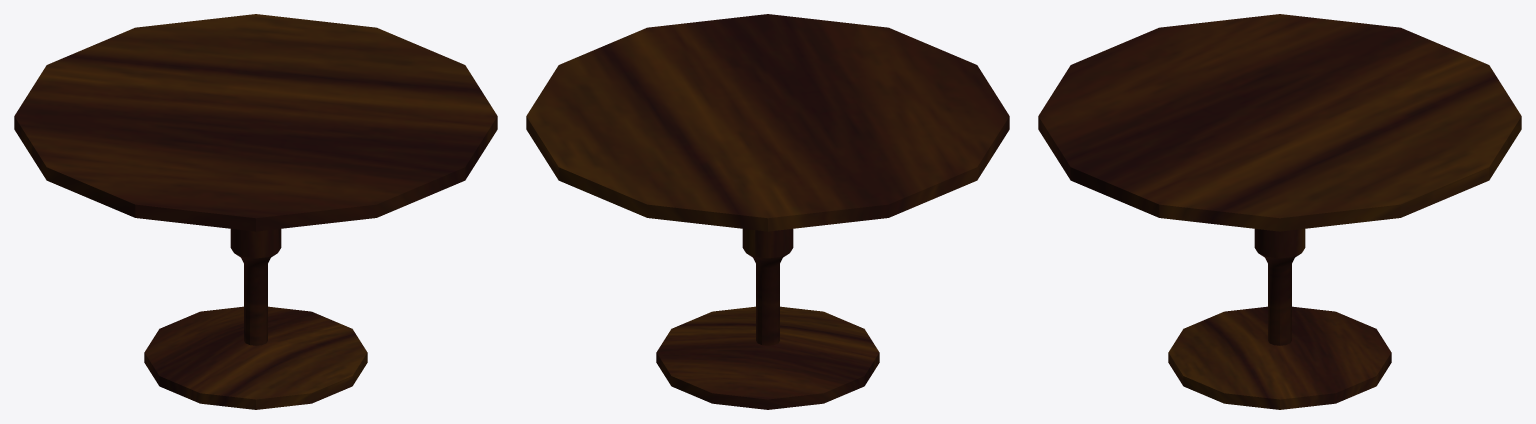
The model's file is Meja1.fbx.
The picture shows the model from 3 angles, left to right: view 1: azimuth 30°, elevation 25°; view 2: azimuth 150°, elevation 25°; view 3: azimuth 270°, elevation 25°; orthographic projection.
Parts seen in each view (by area): view 1: Cylinder.002; view 2: Cylinder.002; view 3: Cylinder.002.
Part boxes in pixels (x1=…): Cylinder.002: x1=14, y1=14, x2=497, y2=409; Cylinder.002: x1=526, y1=14, x2=1009, y2=409; Cylinder.002: x1=1038, y1=14, x2=1521, y2=409.
Bounding box in the file's own units: 97.4 × 54.86 × 97.4.
Materials: 1 (1 with a texture image).
